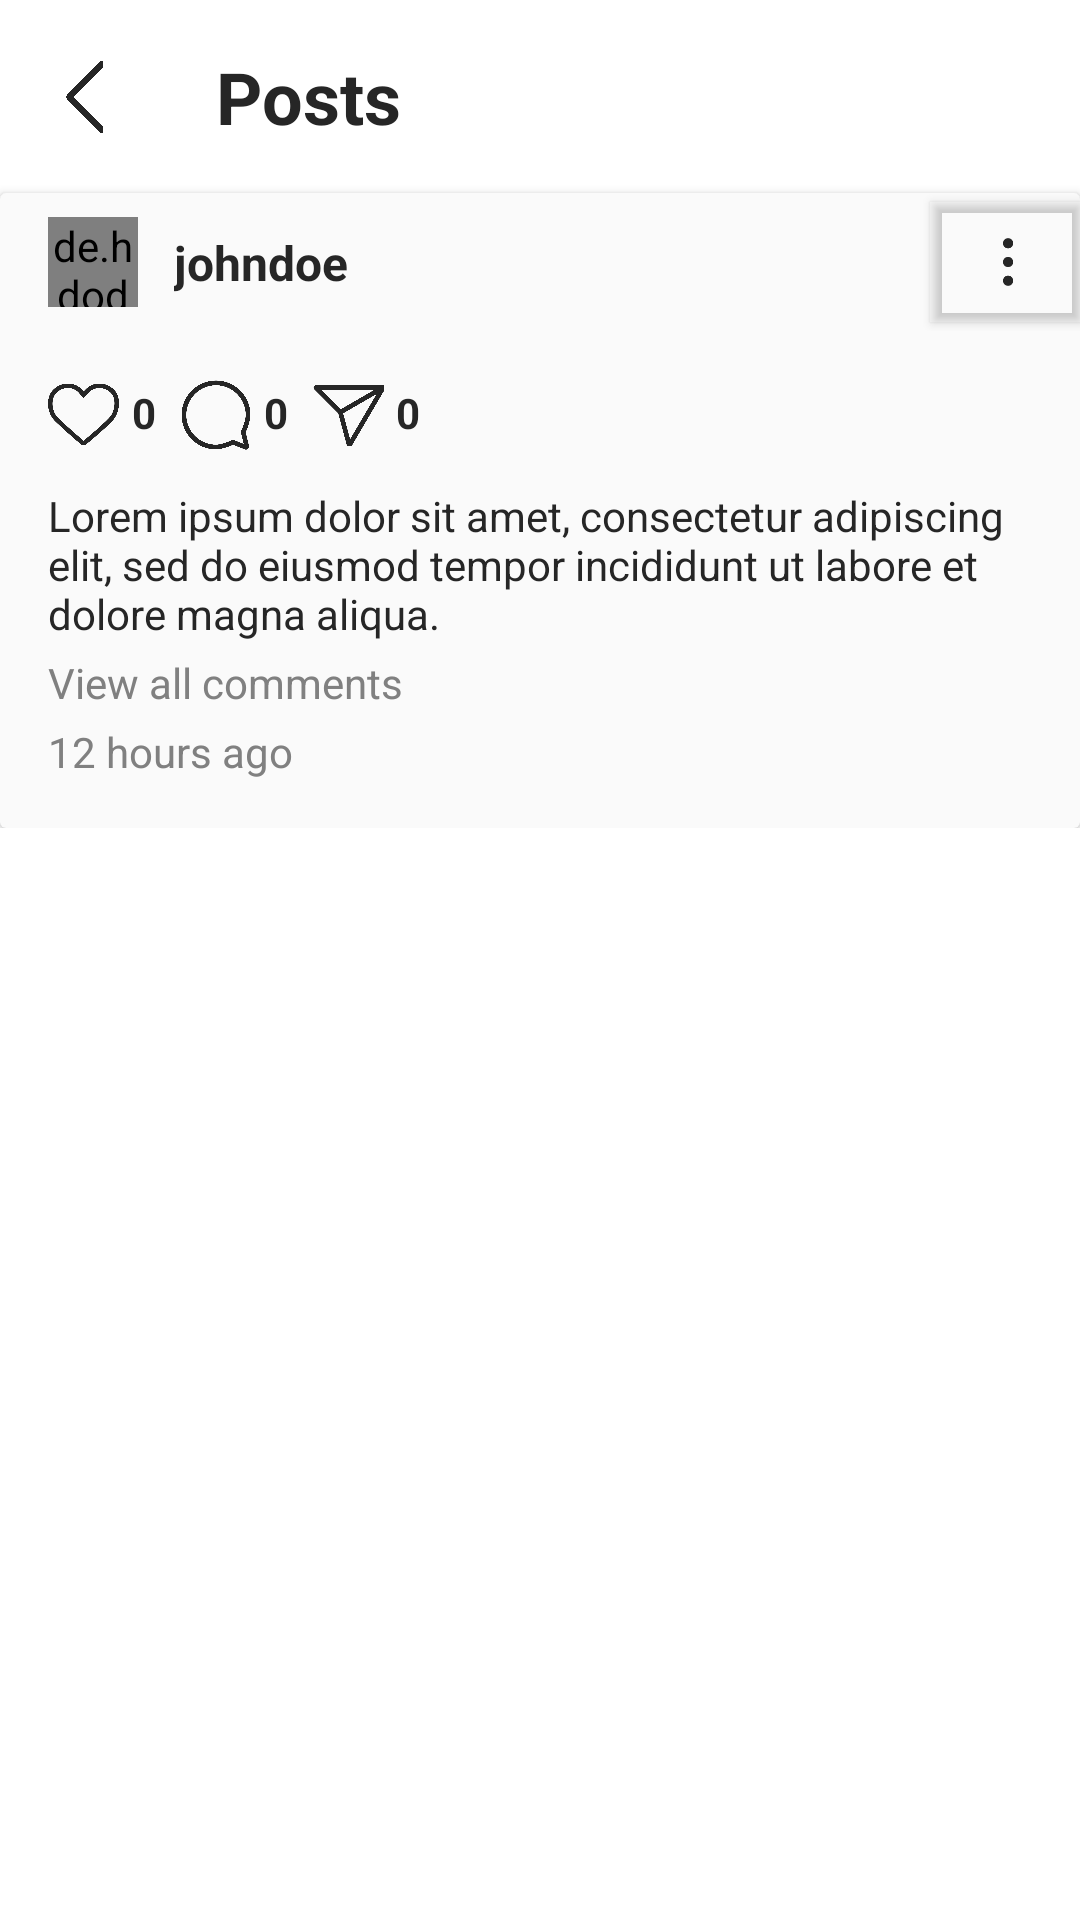

Point at icon controls on the screen. Image size 1080×1920, points as point (x, y).
back arrow: point (84, 97)
chat: point (216, 415)
heart: point (83, 414)
more settings: point (1008, 262)
send: point (348, 415)
